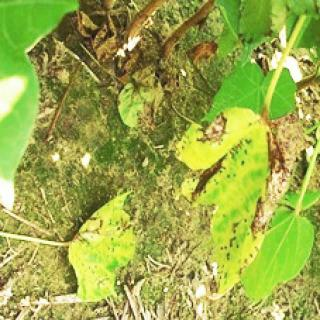blight: (183, 108, 273, 236), (75, 210, 129, 256)
